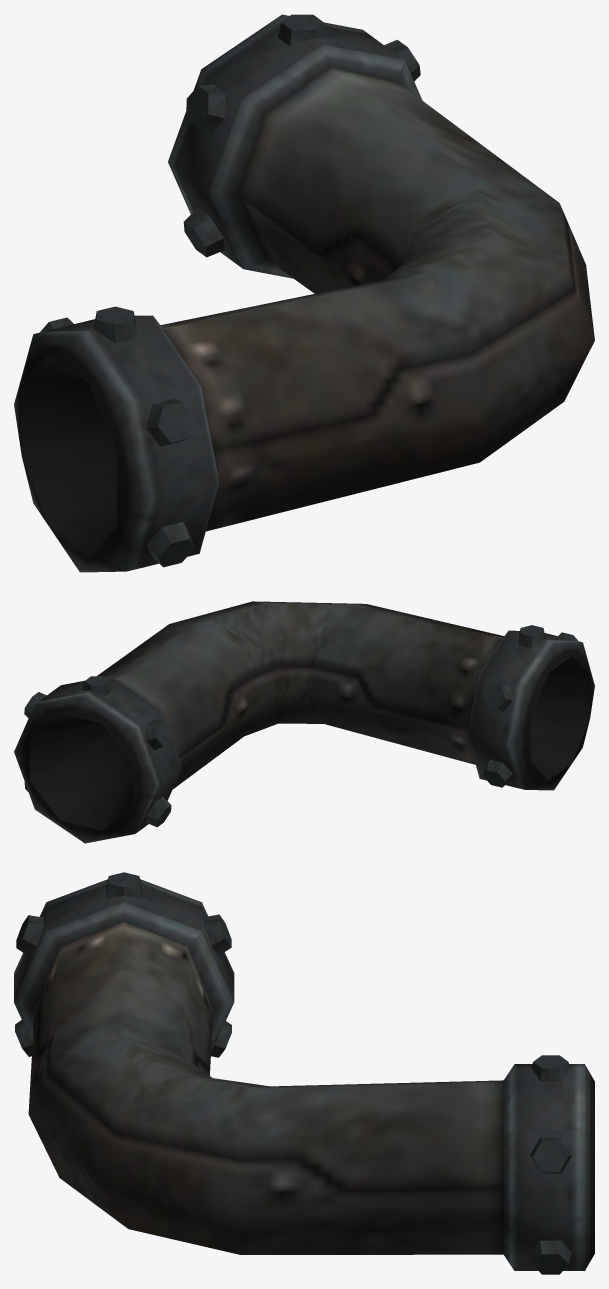
The model's file is SM_EN_1002_guandao06.FBX.
3 renders of one model, top to bottom at view 1: azimuth 30°, elevation 25°; view 2: azimuth 150°, elevation 25°; view 3: azimuth 270°, elevation 25°, orthographic. The views are drawn at different scales.
Parts seen in each view (by area): view 1: SM_EN_1002_guandao06; view 2: SM_EN_1002_guandao06; view 3: SM_EN_1002_guandao06.
Part boxes in pixels (left/top/right/bottom): SM_EN_1002_guandao06: left=14, top=14, right=594, bottom=572; SM_EN_1002_guandao06: left=14, top=601, right=594, bottom=843; SM_EN_1002_guandao06: left=14, top=872, right=594, bottom=1274.
Size of the model in its own units: 48.98 by 19.28 by 48.97.
